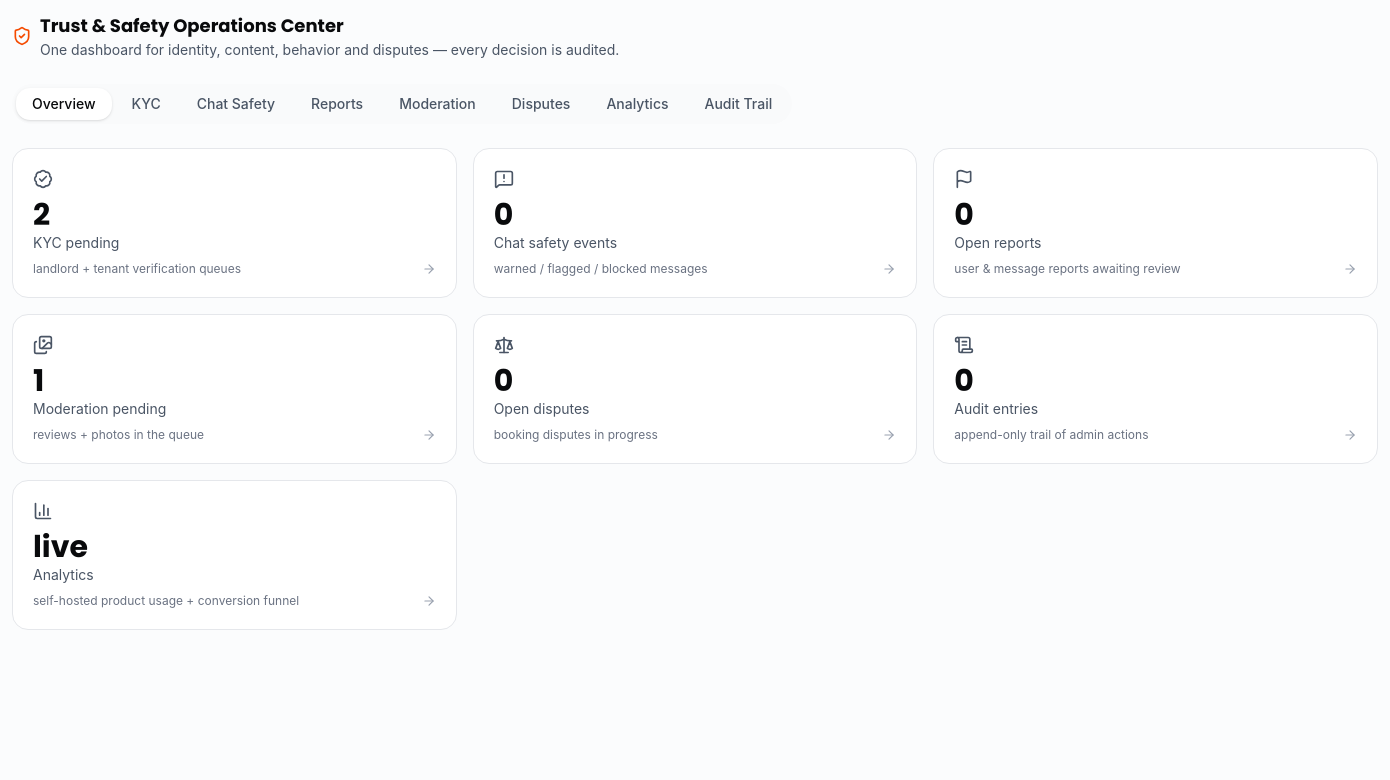
Scenario: AdminTrustCenter › opens the reports queue panel
The image size is (1390, 780).
Click the button "Reports". click: click(337, 104)
box: [295,88,379,120]
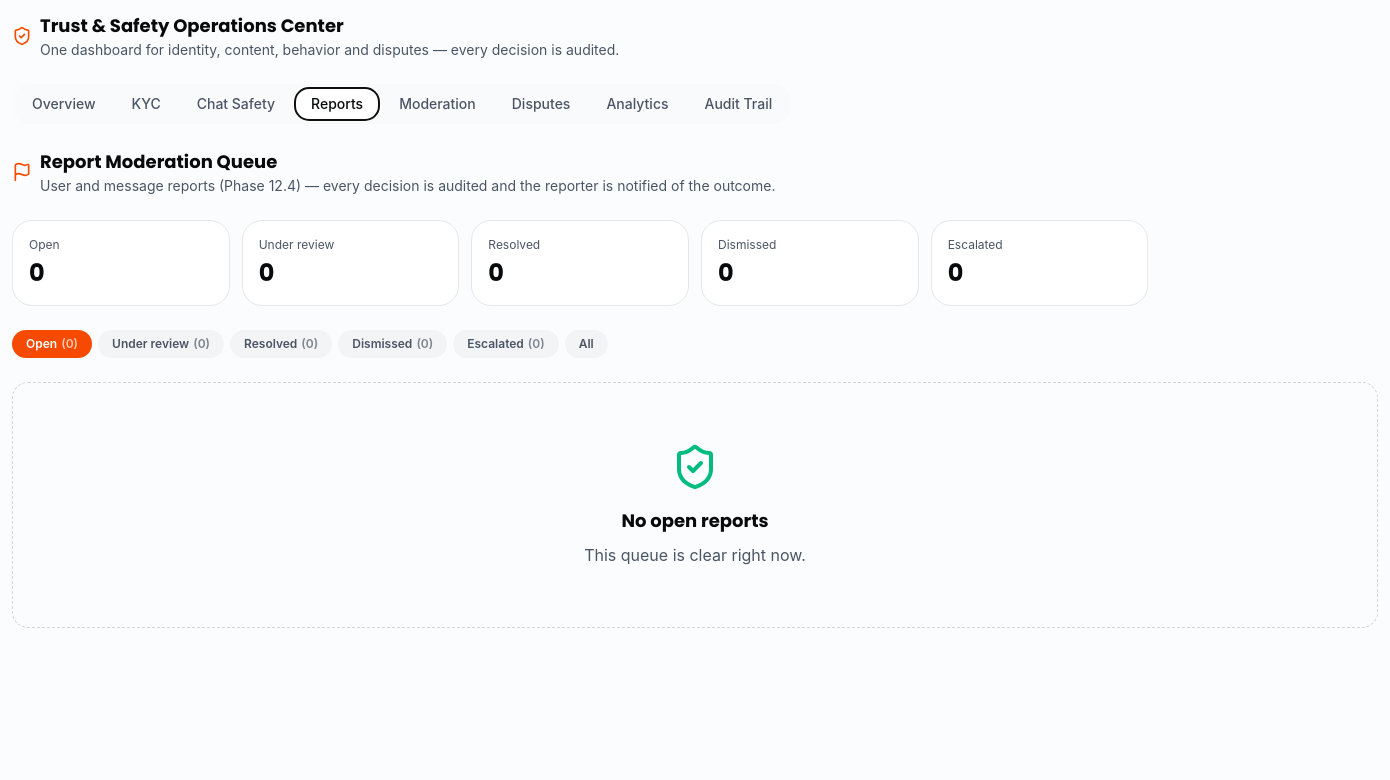
Check: the heading "Report Moderation Queue" is shown, box [40,149,277,174]
